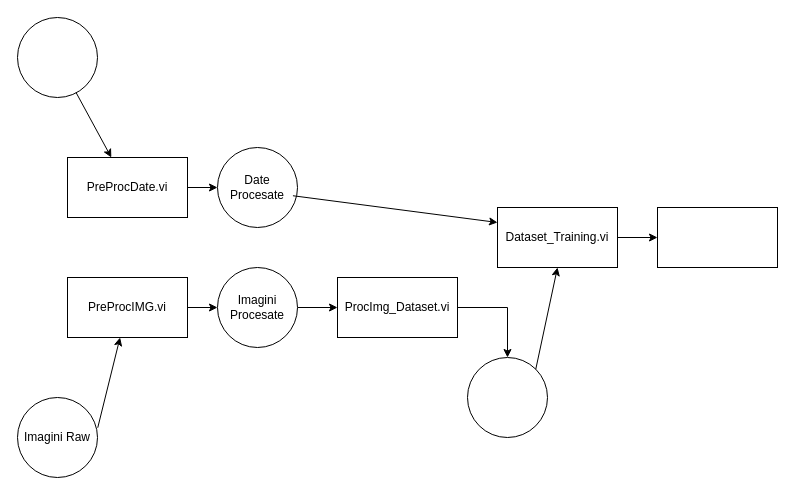
This 795x495 diagram has some shape labels left out. The box of each missing label's shape, as (x1, y1, x2, y2) in pixels:
Date Raw: (16, 16, 98, 98)
Imagini Procesate in Dataset: (466, 356, 548, 438)
Predictie.vi: (656, 206, 778, 268)
